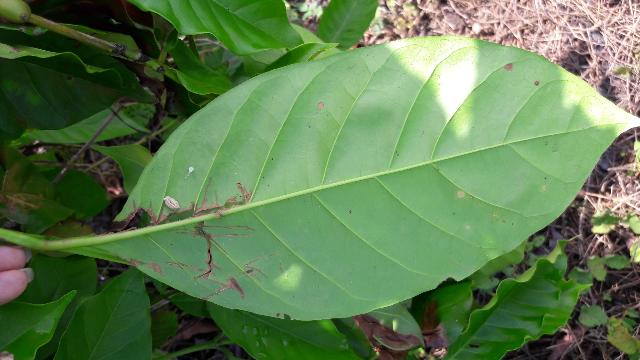red_spider_mite: (65, 39, 640, 320)
